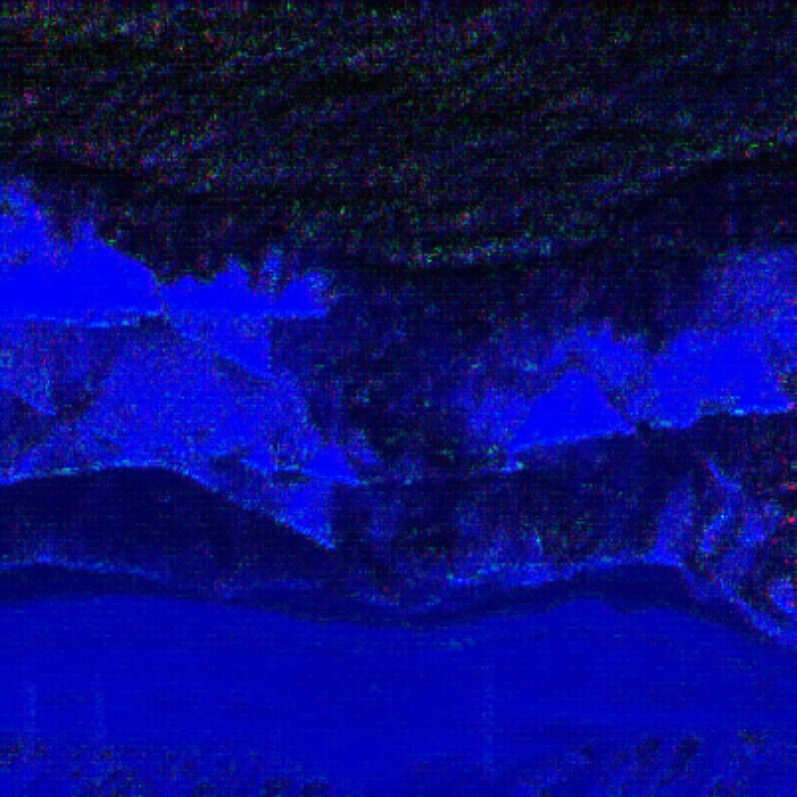rip_current: (248, 209, 536, 566)
